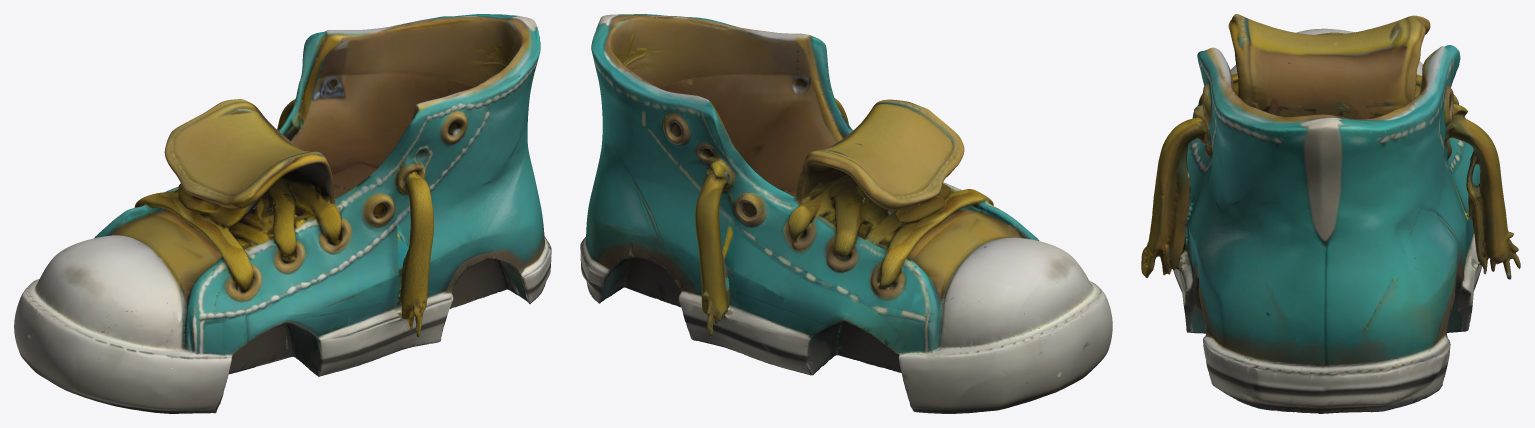
The model's file is Meshy_AI_shoe_car_0330163356_texture.glb.
3 views of the same model, side by side, from view 1: azimuth 30°, elevation 25°; view 2: azimuth 150°, elevation 25°; view 3: azimuth 270°, elevation 25° (orthographic). The views are drawn at different scales.
Bounding box in the file's own units: 2 × 1.01 × 1.1.
Materials: 1 (1 with a texture image).
